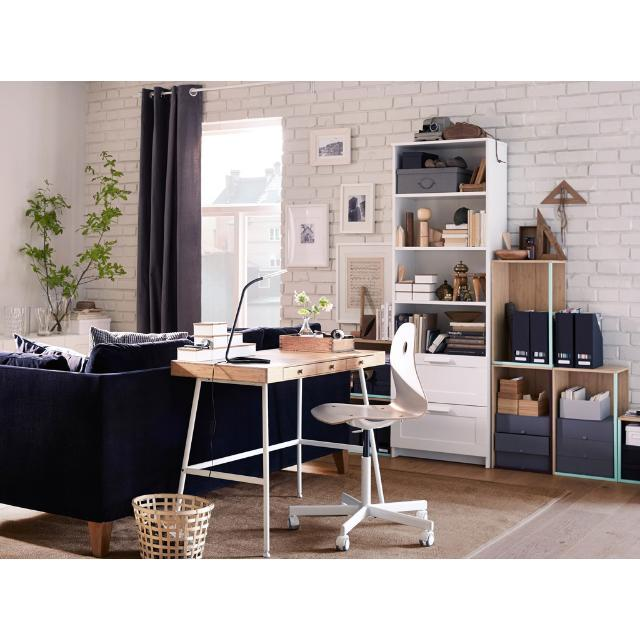chair: (289, 324, 434, 550)
couch: (0, 320, 349, 555)
curtain: (138, 85, 202, 332)
plant: (22, 147, 131, 329), (284, 287, 332, 337)
rug: (0, 458, 567, 559)
shelf: (391, 137, 508, 467), (491, 261, 629, 480)
table: (171, 348, 385, 557)
wall-art: (336, 244, 392, 324), (285, 204, 330, 268), (340, 184, 375, 233), (310, 127, 351, 165)
